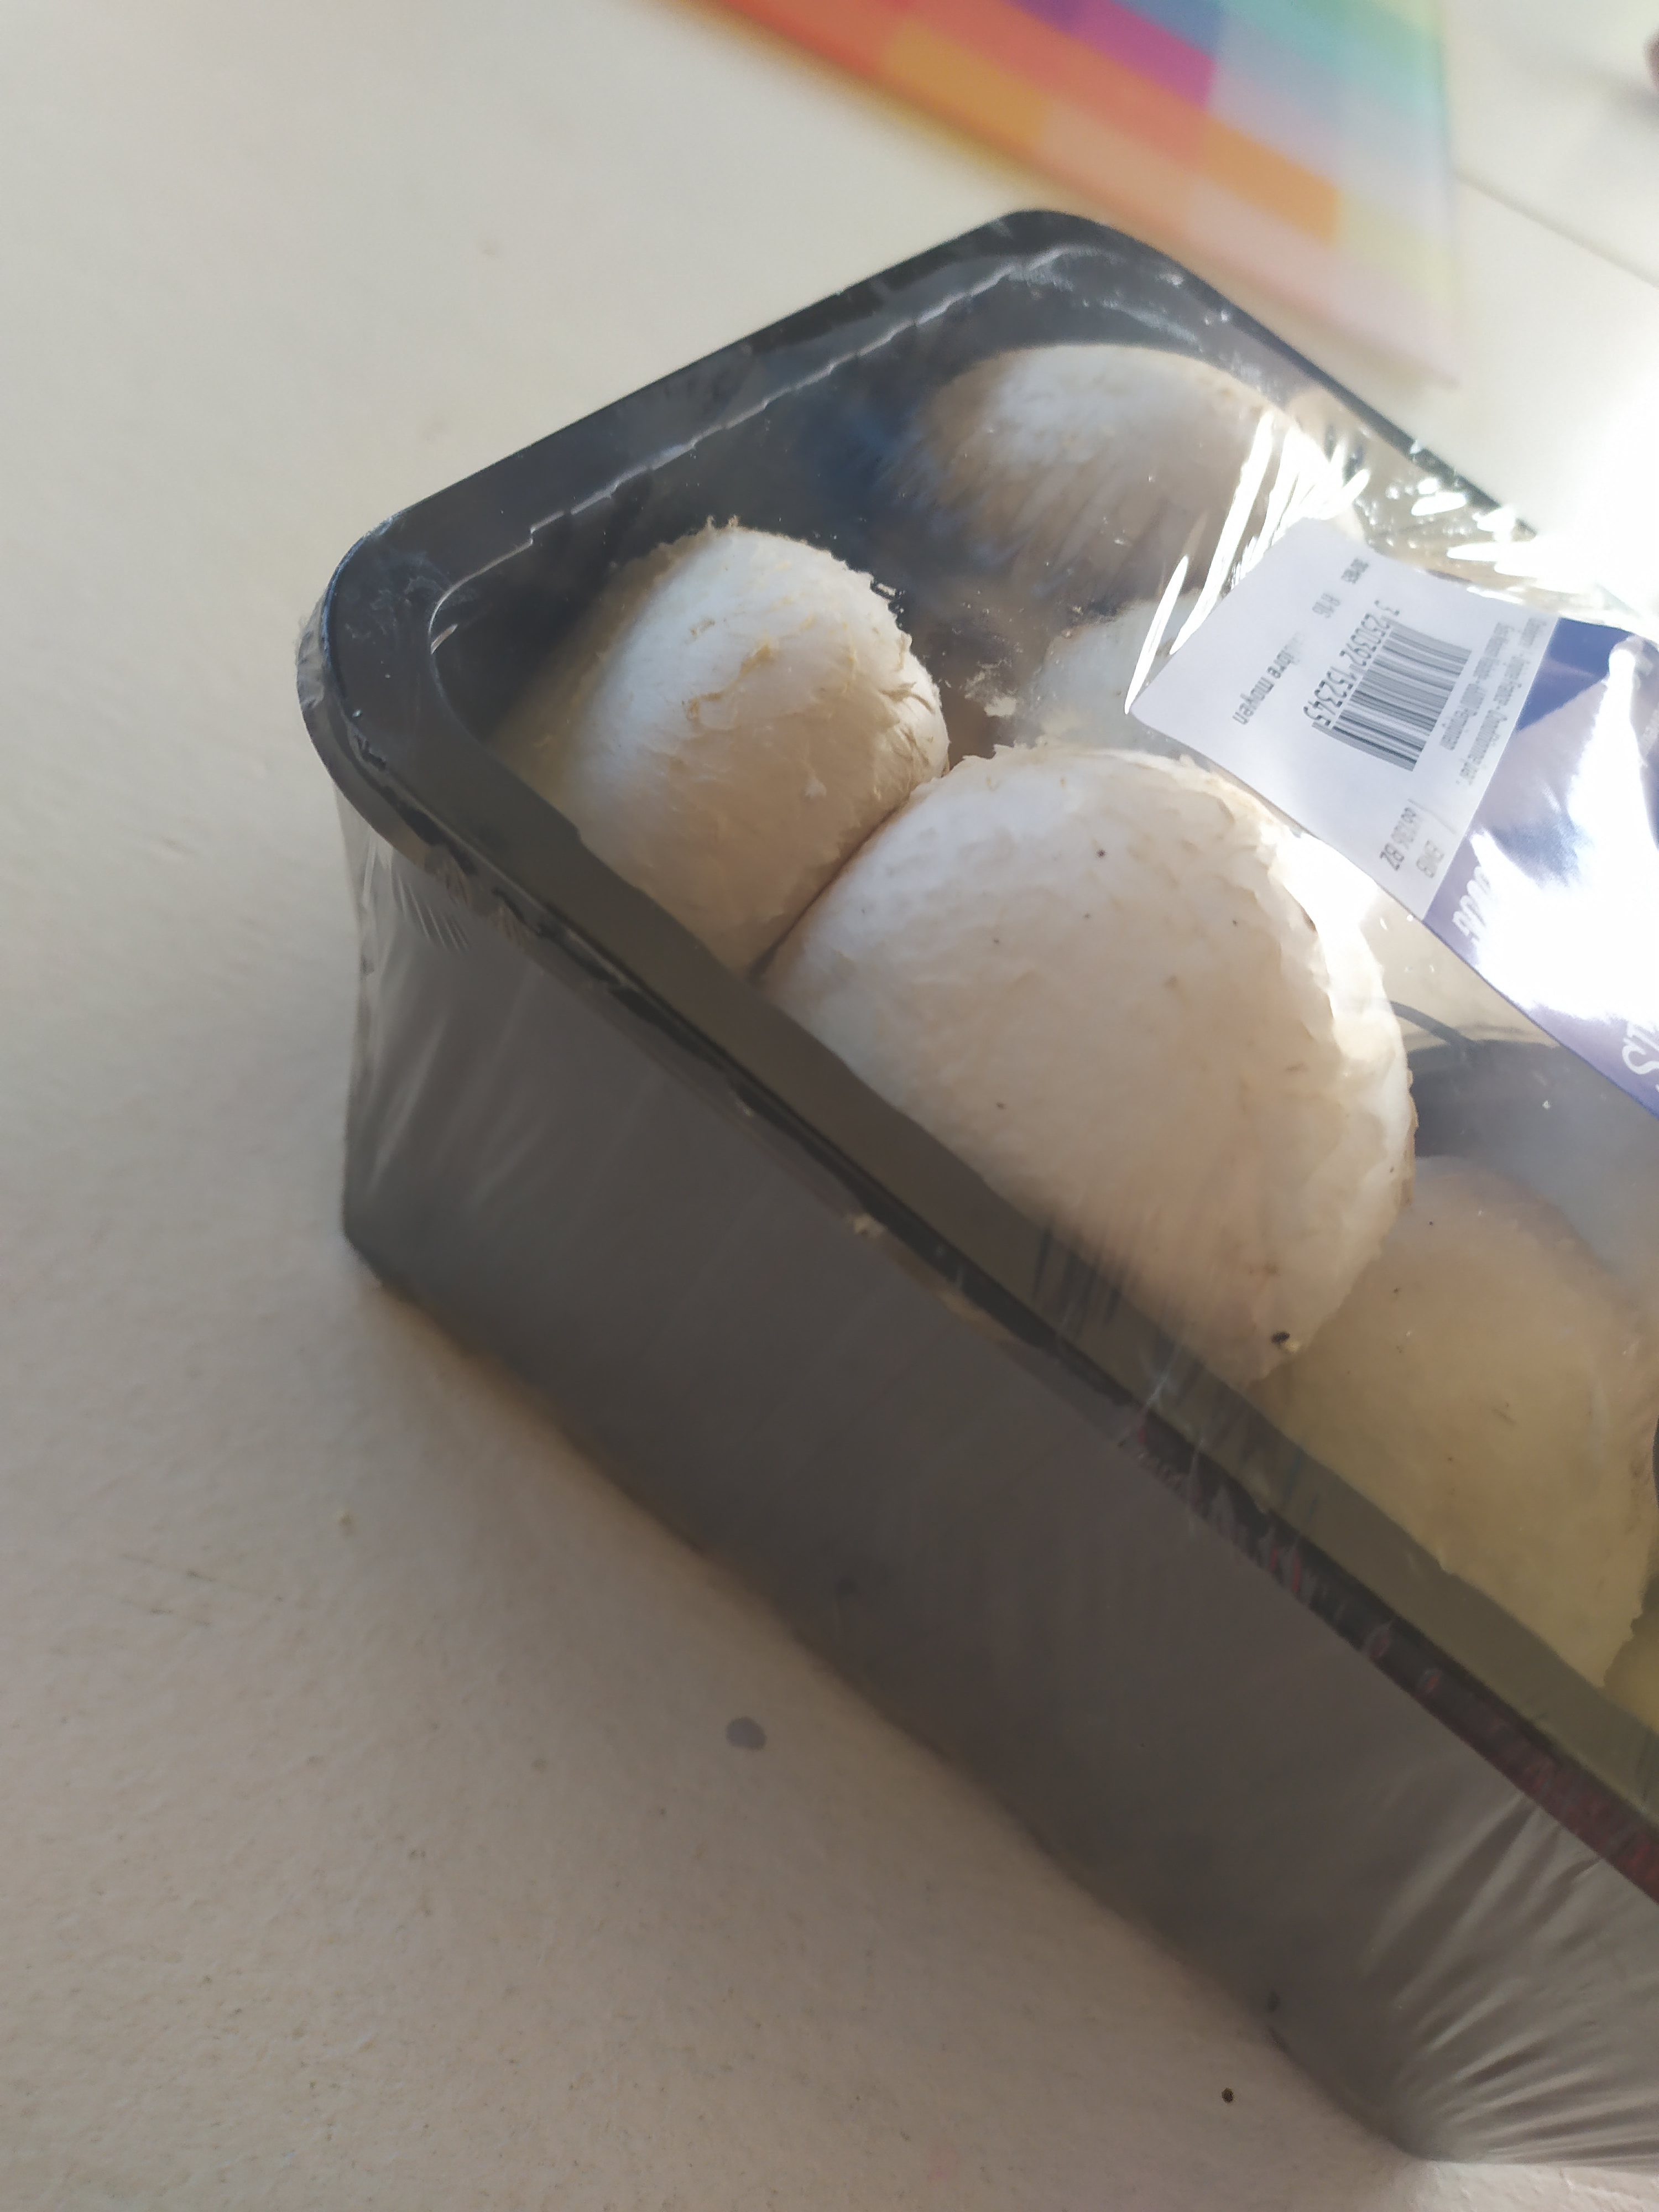mushroom: (303, 212, 1659, 2184)
